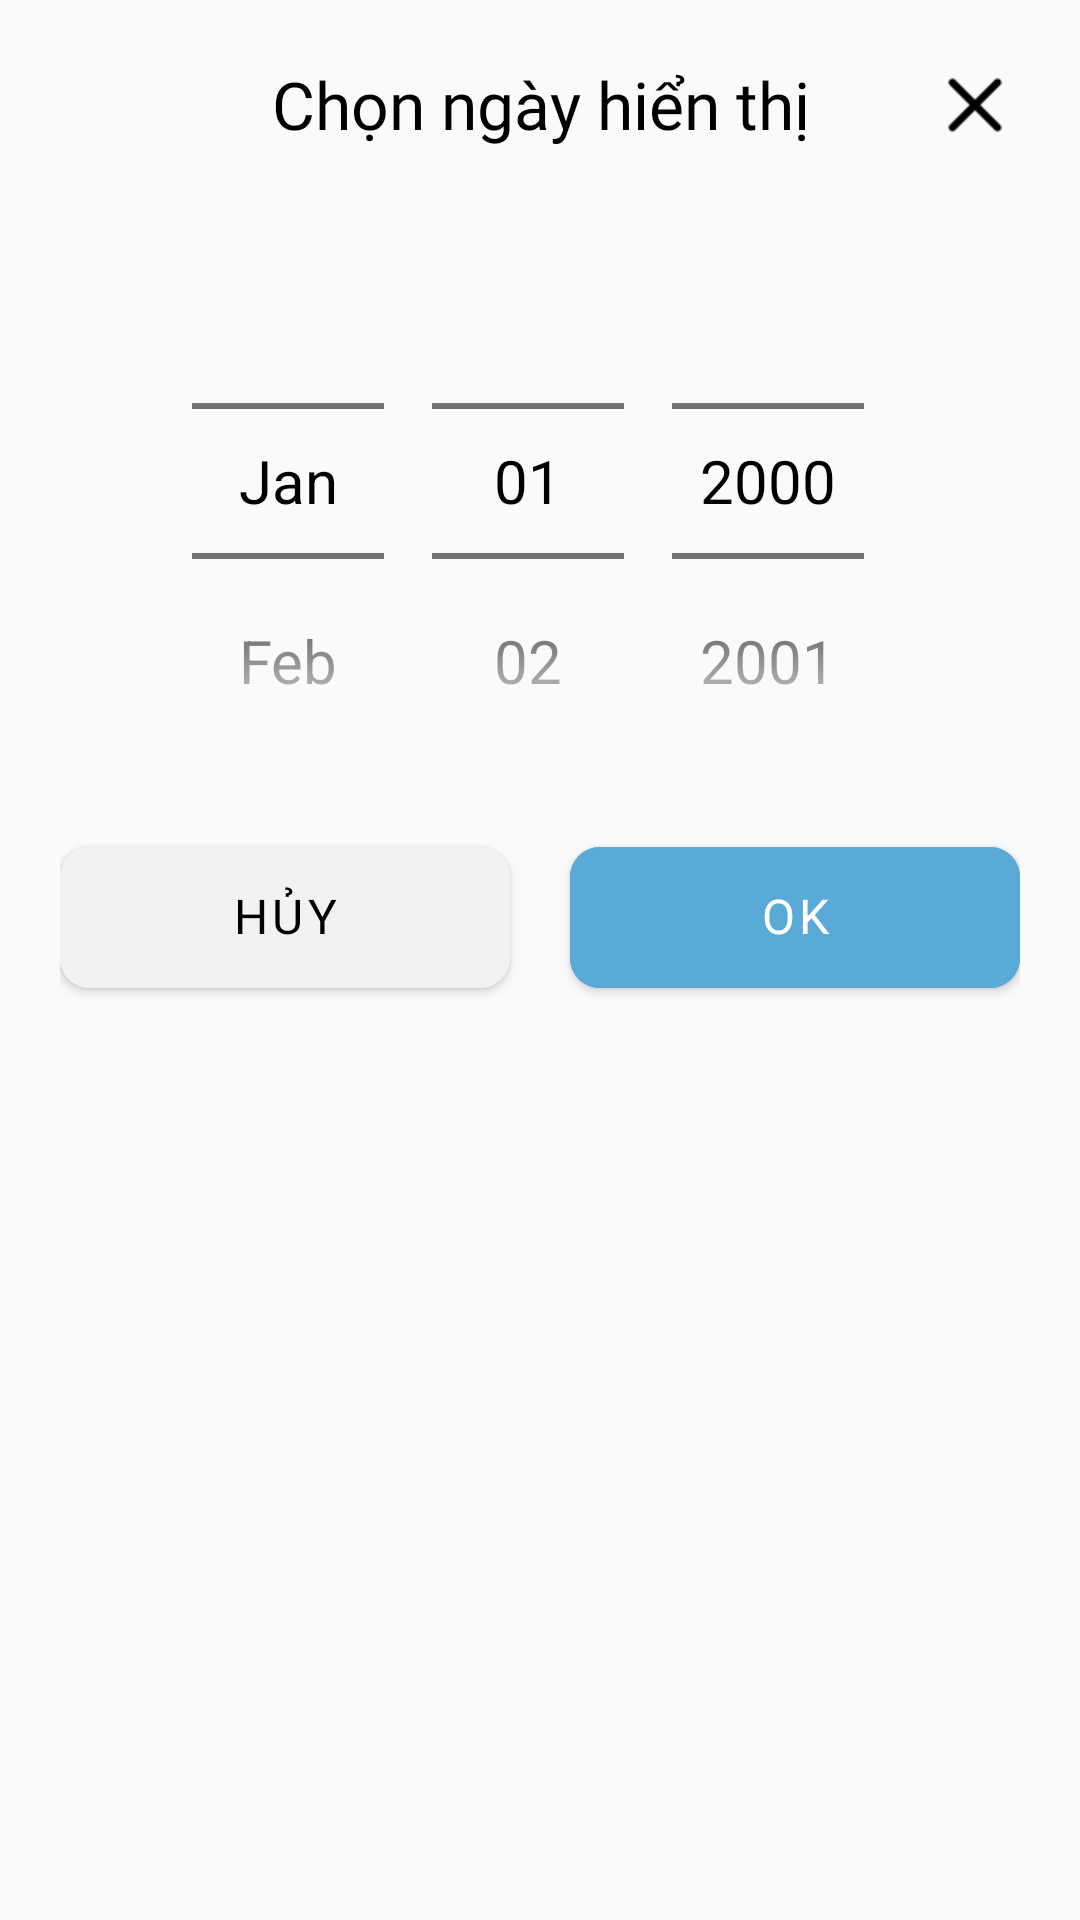

Point at icon controls on the screen. Image size 1080*1920, points as (x=x, y=y).
close: (x=975, y=105)
